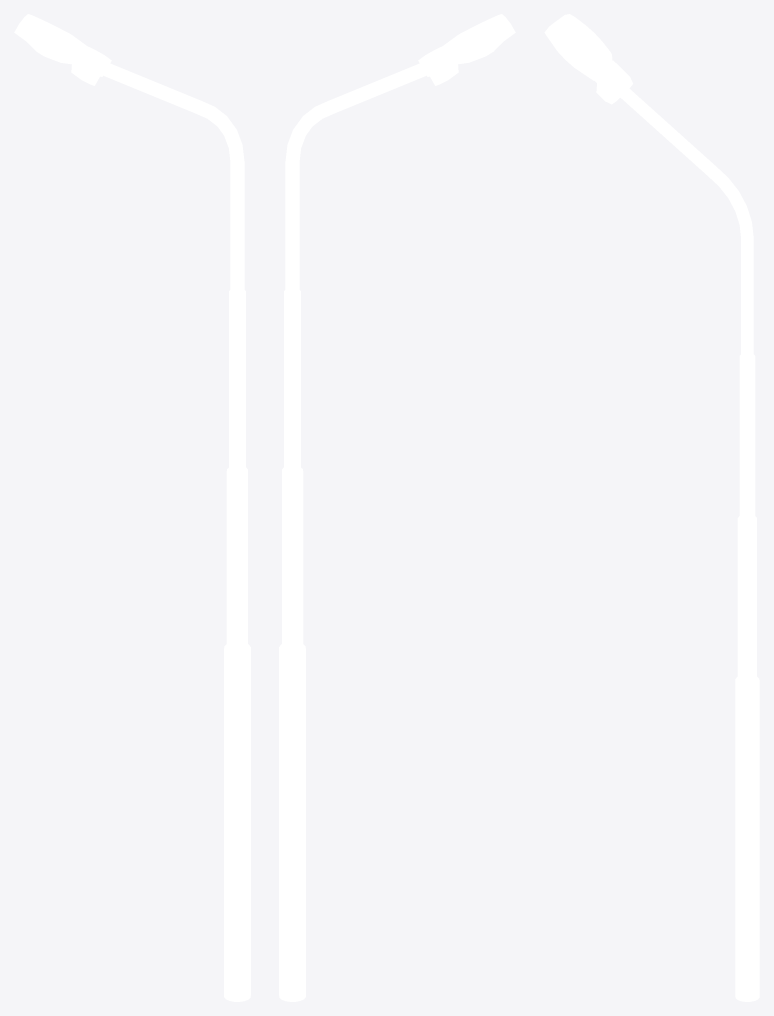
Rendered from lamp.glb.
The picture shows the model from 3 angles, left to right: view 1: azimuth 30°, elevation 25°; view 2: azimuth 150°, elevation 25°; view 3: azimuth 330°, elevation 25°; orthographic projection. The views are drawn at different scales.
Visible parts, largest first — view 1: m; view 2: m; view 3: m.
Part boxes in pixels (left/top/right/bottom): m: left=14, top=14, right=250, bottom=1001; m: left=279, top=14, right=515, bottom=1001; m: left=544, top=14, right=759, bottom=1001.
Bounding box in the file's own units: 1.52 × 6.5 × 0.242.
Materials: 1 (1 with a texture image).
